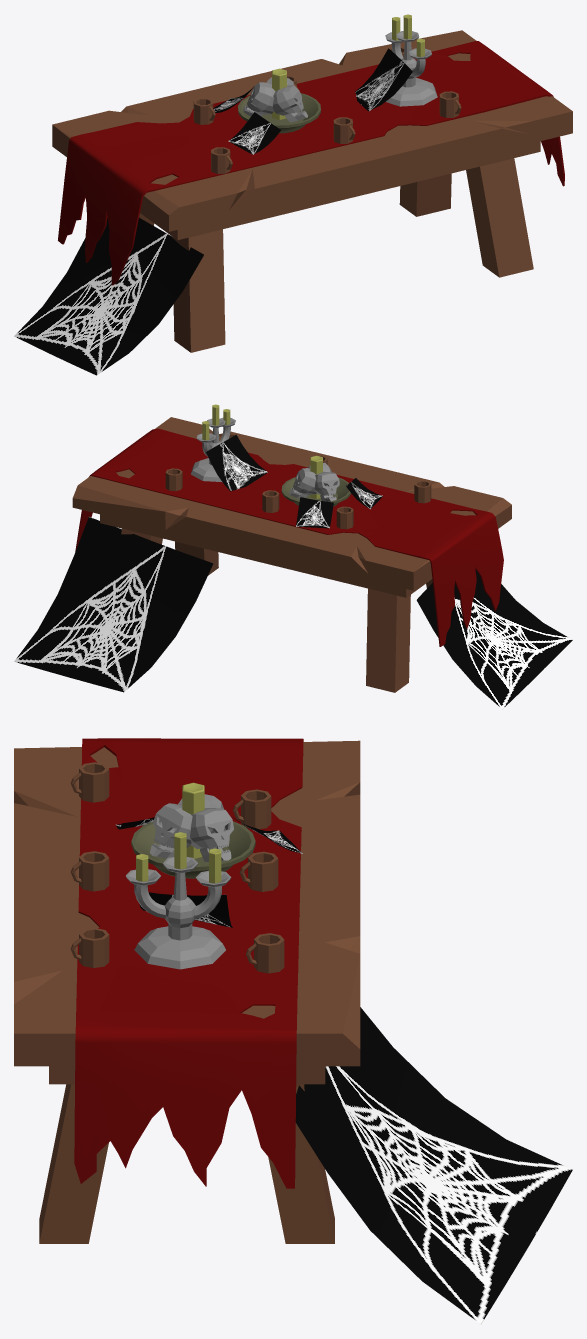
The model's file is tavolo_imbandito.fbx.
3 renders of one model, top to bottom at view 1: azimuth 30°, elevation 25°; view 2: azimuth 150°, elevation 25°; view 3: azimuth 270°, elevation 25°, orthographic. The views are drawn at different scales.
Visible parts, largest first — view 1: ravolo, candelabro, piatto1, teschio2, teschio1, boccale4, boccale2, boccale1, boccale3; view 2: ravolo, candelabro, teschio1, teschio, piatto1; view 3: ravolo, candelabro, piatto1, teschio, teschio2, boccale5, boccale3, boccale6, boccale2, boccale1, boccale4, candle1.
Boxes of the visible parts, x1,y1,x2,y2 form: ravolo: [14, 30, 572, 375]; candelabro: [385, 31, 437, 106]; piatto1: [238, 93, 320, 133]; teschio2: [273, 85, 307, 122]; teschio1: [243, 82, 275, 116]; boccale4: [193, 98, 215, 124]; boccale2: [333, 117, 355, 143]; boccale1: [439, 91, 461, 117]; boccale3: [211, 147, 232, 173]; ravolo: [14, 417, 572, 709]; candelabro: [191, 417, 235, 482]; teschio1: [314, 471, 339, 501]; teschio: [289, 468, 316, 498]; piatto1: [281, 477, 351, 506]; ravolo: [14, 738, 572, 1324]; candelabro: [126, 857, 231, 969]; piatto1: [131, 821, 255, 878]; teschio: [190, 808, 233, 861]; teschio2: [150, 803, 192, 858]; boccale5: [239, 851, 278, 891]; boccale3: [70, 762, 109, 802]; boccale6: [246, 933, 284, 973]; boccale2: [70, 851, 109, 891]; boccale1: [70, 928, 109, 967]; boccale4: [232, 789, 271, 829]; candle1: [182, 782, 204, 858].
Size of the model in its own units: 2.73 by 1.35 by 1.76.
